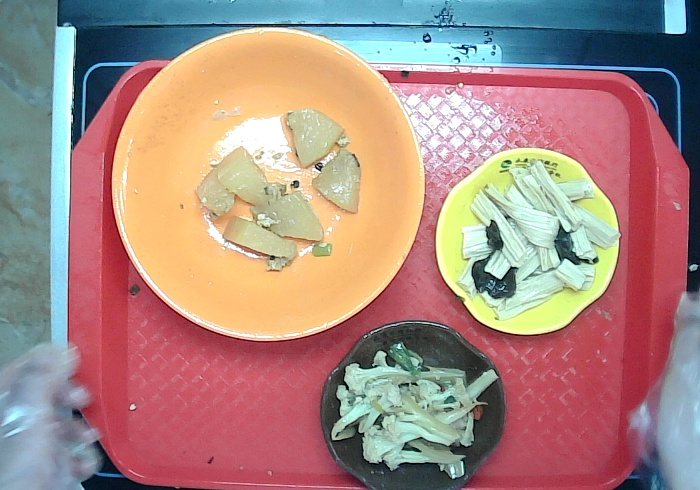YKMZ-Huang_Se_Ao_Bian_Wan: (433, 146, 621, 337)
YKMZ-Ju_Se_Tang_Wan: (110, 25, 427, 342)
YKMZ-Ka_Fei_Ao_Bian_Wan: (319, 318, 506, 490)
